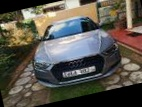car: (24, 9, 125, 95)
